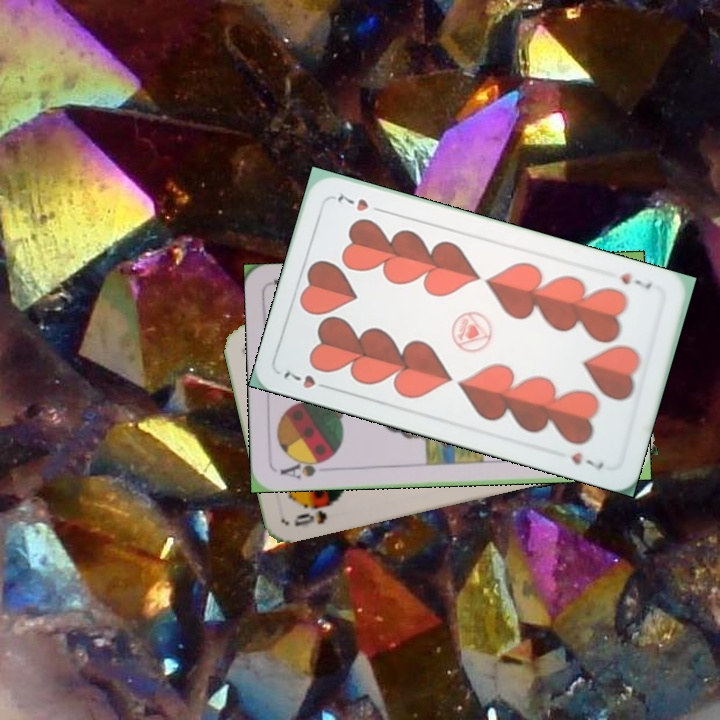H7: (279, 367, 335, 392), (616, 269, 655, 293)
SA: (276, 454, 334, 482)
SO: (290, 499, 336, 529)
